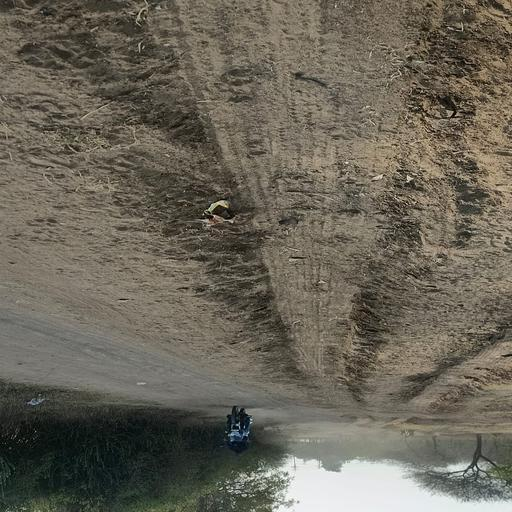vehicle_track: (160, 0, 430, 409), (0, 283, 274, 409), (407, 334, 512, 409)
